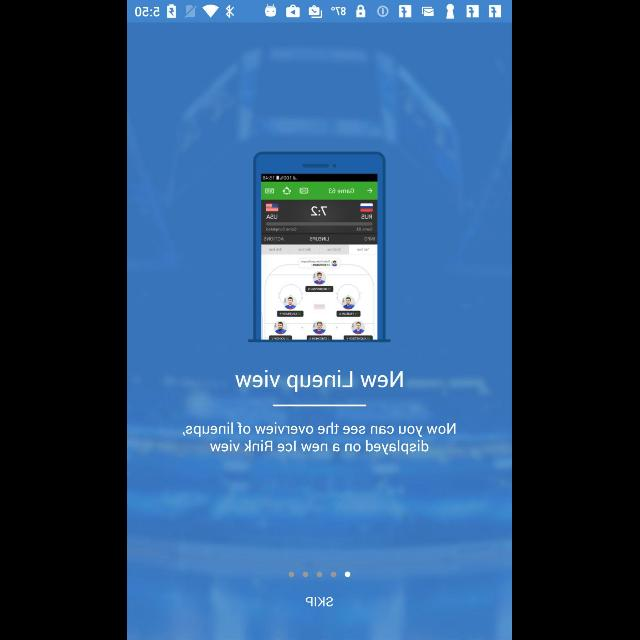image: (248, 152, 392, 342)
pageindicator: (288, 572, 352, 578)
text: (183, 422, 457, 456), (236, 370, 404, 392), (306, 597, 334, 607)
uppertaskbar: (128, 1, 512, 23)
